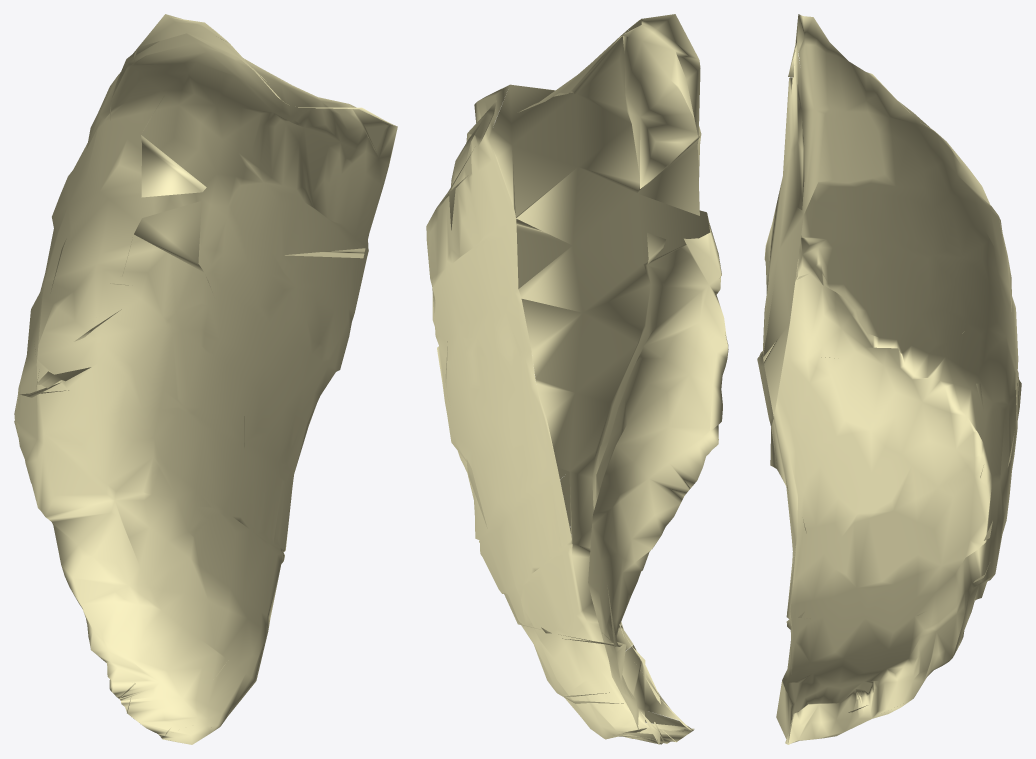
3 renders of one model, left to right at view 1: azimuth 30°, elevation 25°; view 2: azimuth 150°, elevation 25°; view 3: azimuth 270°, elevation 25°, orthographic.
Parts seen in each view (by area): view 1: Switch_Switch_osgPicked_gmeGeoEntityGeode_Geometry_0; view 2: Switch_Switch_osgPicked_gmeGeoEntityGeode_Geometry_0; view 3: Switch_Switch_osgPicked_gmeGeoEntityGeode_Geometry_0.
Part boxes in pixels (x1,y1,x2,y2): Switch_Switch_osgPicked_gmeGeoEntityGeode_Geometry_0: (14, 14, 397, 744); Switch_Switch_osgPicked_gmeGeoEntityGeode_Geometry_0: (426, 14, 728, 744); Switch_Switch_osgPicked_gmeGeoEntityGeode_Geometry_0: (757, 14, 1021, 744).
Size of what is drawn, in the model's own units: 2071 by 4868 by 1619.
